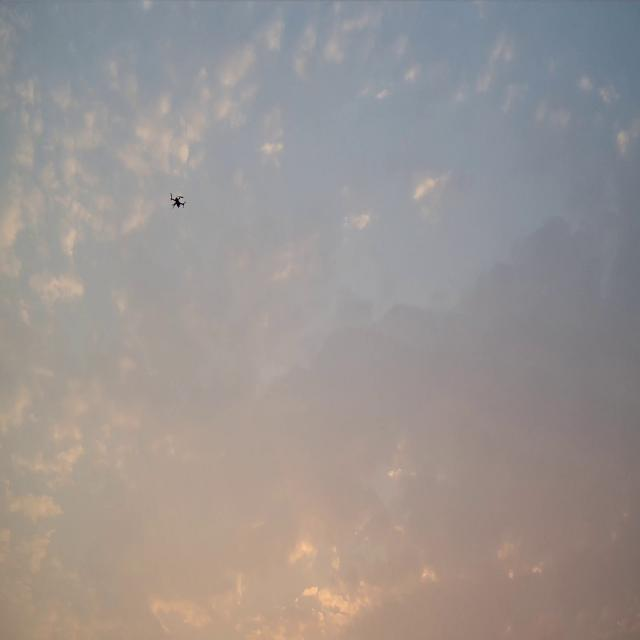drone: (169, 192, 187, 208)
